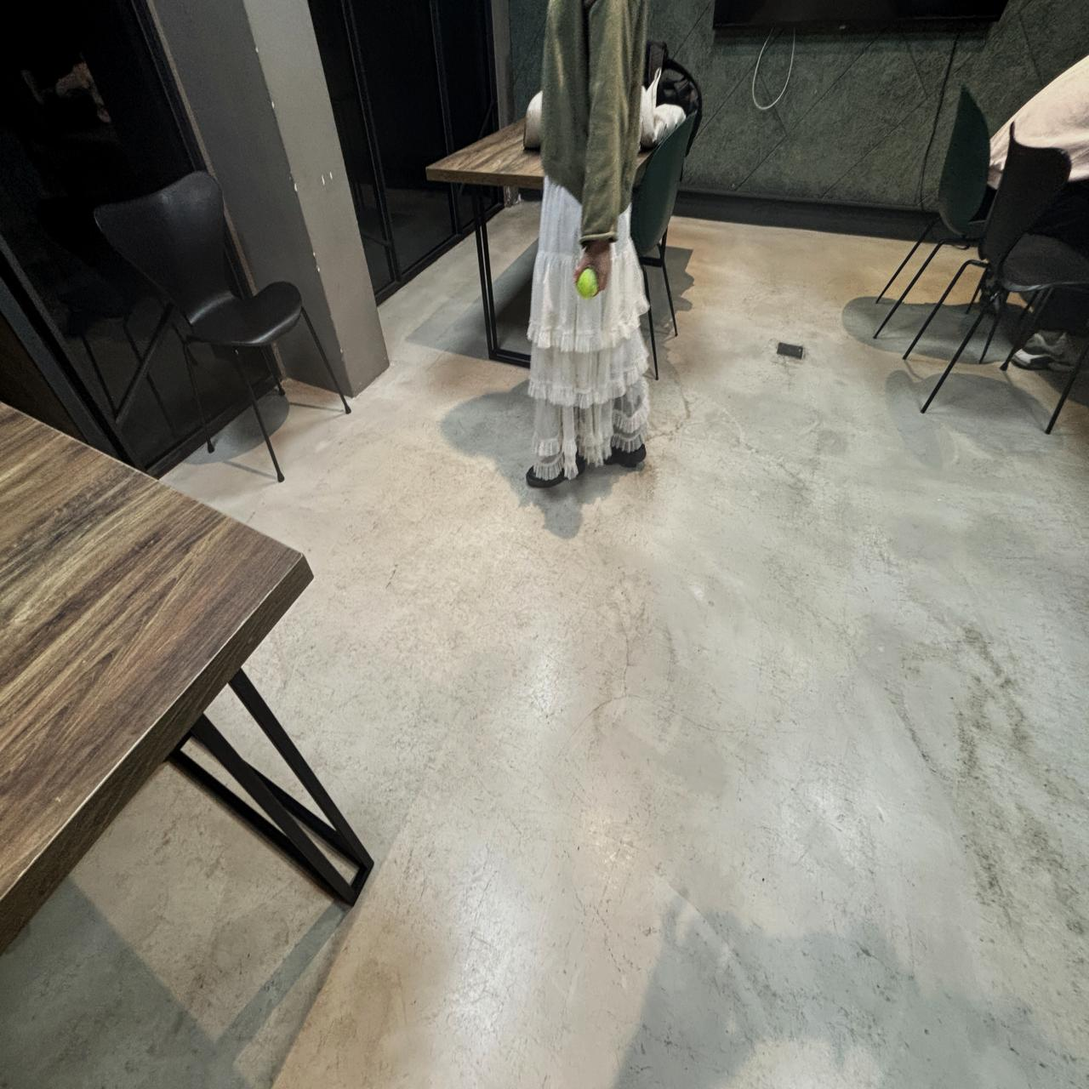person: (527, 0, 648, 487), (983, 45, 1089, 370)
tennisball: (577, 268, 598, 299)
